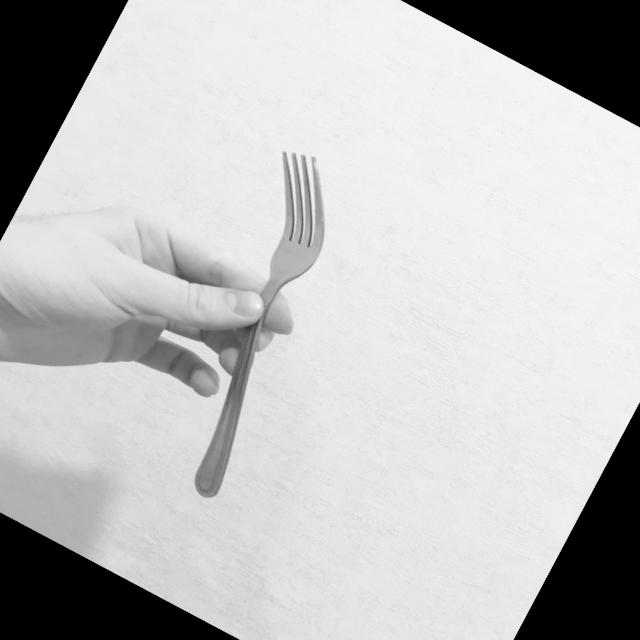fork: (120, 139, 384, 506)
